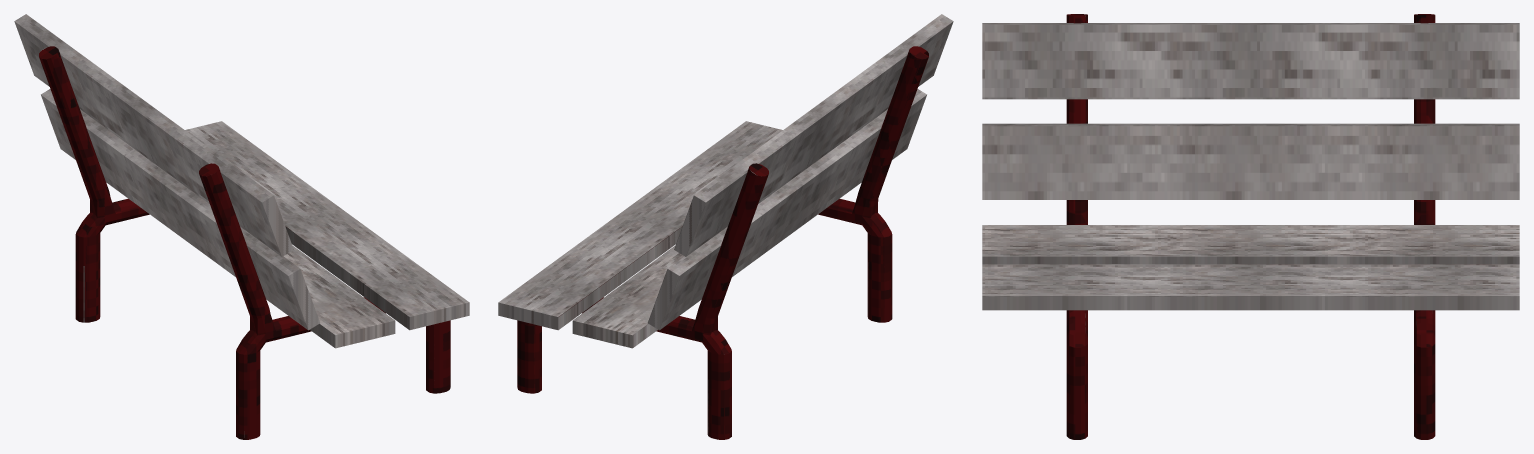
Rendered from Bench.fbx.
The picture shows the model from 3 angles, left to right: view 1: azimuth 30°, elevation 25°; view 2: azimuth 150°, elevation 25°; view 3: azimuth 270°, elevation 25°; orthographic projection. The views are drawn at different scales.
Parts seen in each view (by area): view 1: Bench; view 2: Bench; view 3: Bench.
Part boxes in pixels (bbox=[...]): Bench: bbox=[14, 14, 469, 439]; Bench: bbox=[498, 14, 953, 439]; Bench: bbox=[982, 14, 1519, 439].
Size of the model in its own units: 157 by 168 by 272.
